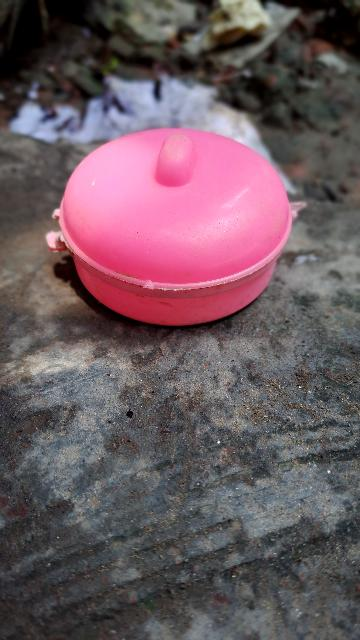hardplastic: (67, 123, 304, 334)
